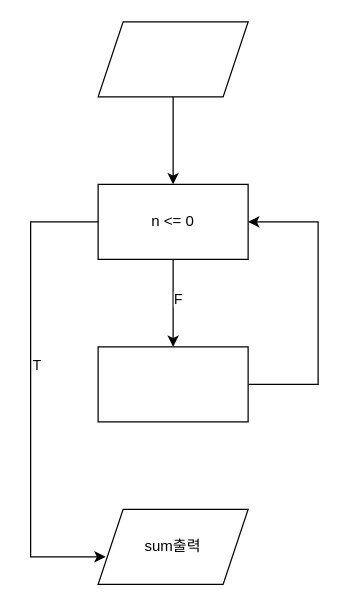
This 350x606 diagram has some shape labels left out. Here are the shapes that lost their labels. From the top down, the centre of each, then its label:
At point (172, 59): "sum=0; n입력".
At point (172, 384): "sum+=n n--".
